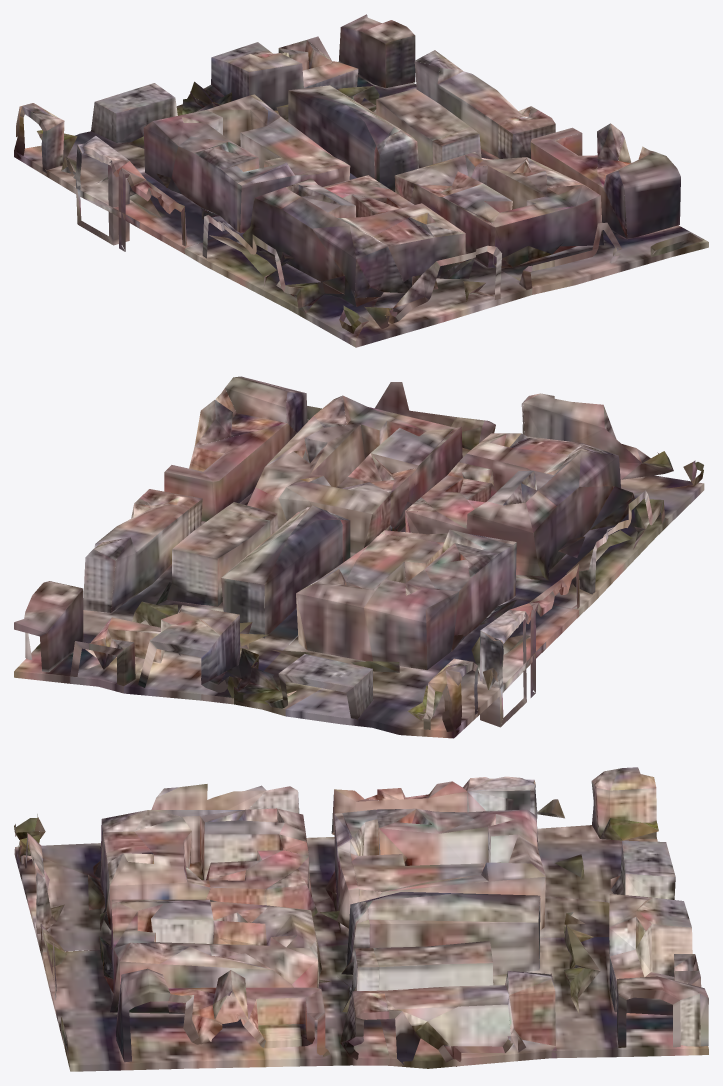
The picture shows the model from 3 angles, top to bottom: view 1: azimuth 30°, elevation 25°; view 2: azimuth 150°, elevation 25°; view 3: azimuth 270°, elevation 25°; orthographic projection. The views are drawn at different scales.
Visible parts, largest first — view 1: Mesh_0; view 2: Mesh_0; view 3: Mesh_0.
Part boxes in pixels (x1,y1,x2,y2): Mesh_0: [14, 14, 708, 347]; Mesh_0: [14, 376, 704, 738]; Mesh_0: [14, 767, 708, 1071].
Size of the model in its own units: 266 by 61.04 by 330.
2 materials, 2 textured.
